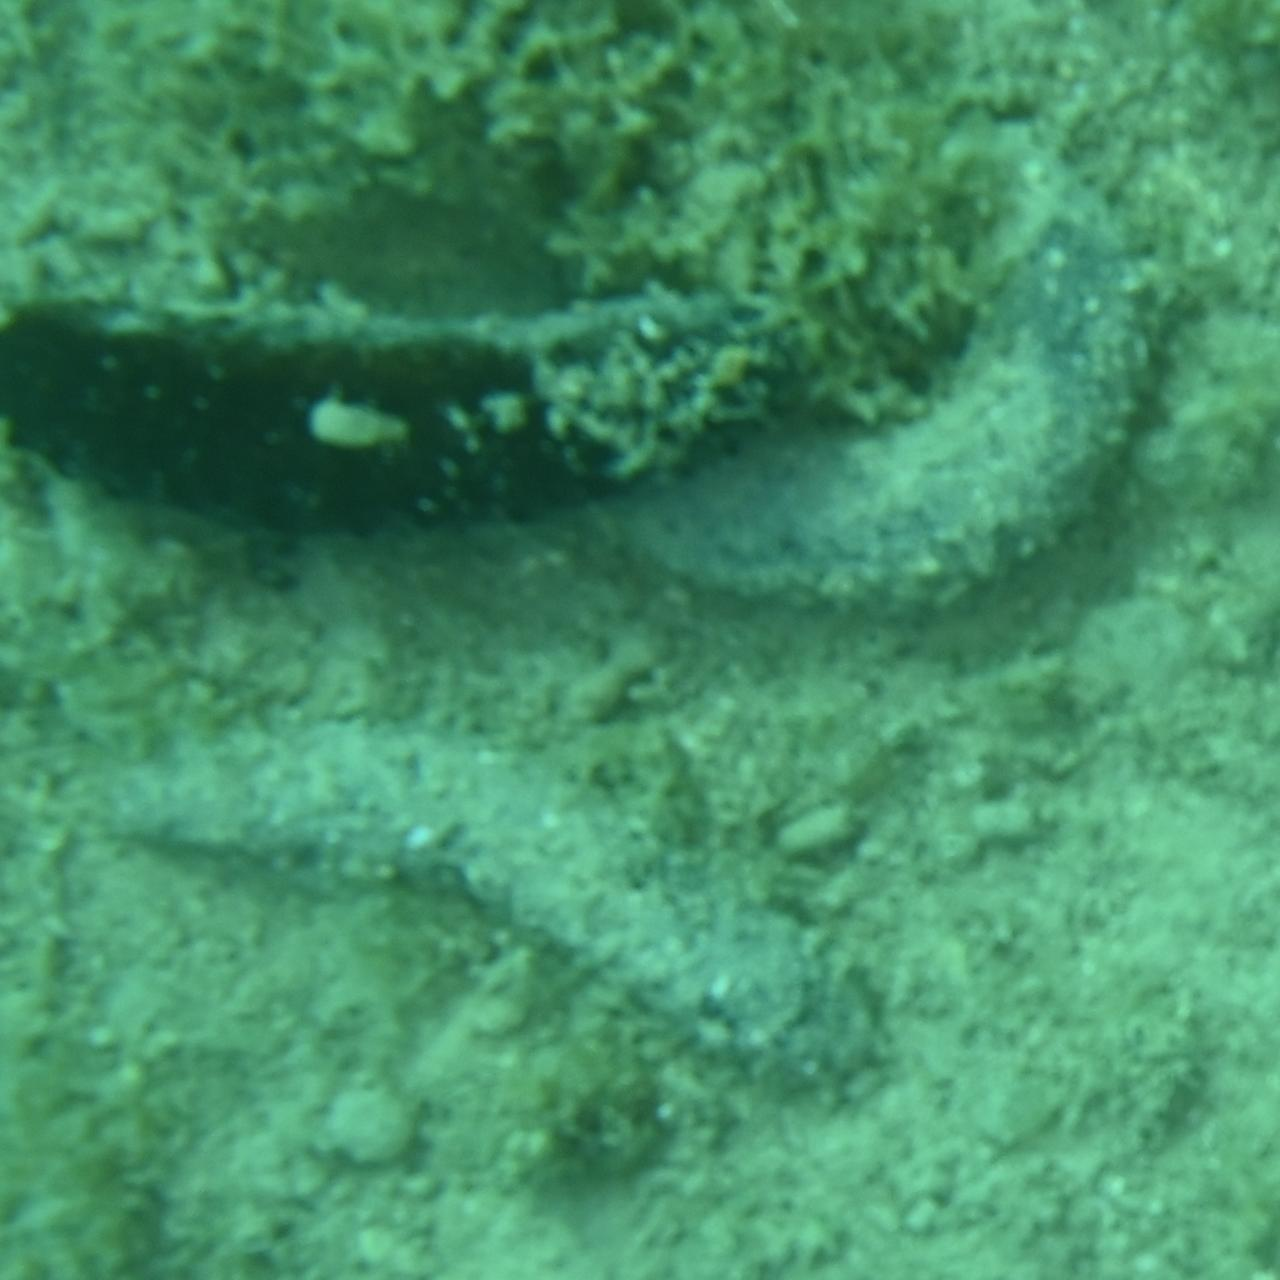Holothuria tubulosa: (570, 145, 1192, 629), (105, 714, 824, 1073), (0, 291, 833, 533)
